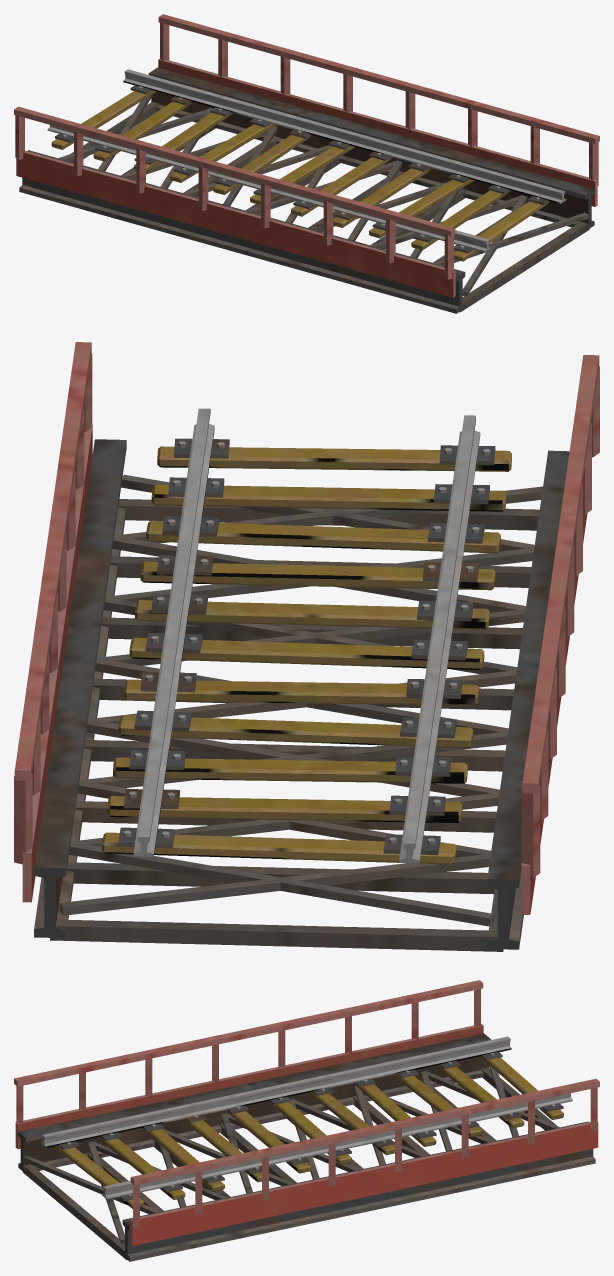
The model's file is elevated-half-diagonal-rail.glb.
The picture shows the model from 3 angles, top to bottom: view 1: azimuth 30°, elevation 25°; view 2: azimuth 150°, elevation 25°; view 3: azimuth 270°, elevation 25°; orthographic projection. The views are drawn at different scales.
Parts seen in each view (by area): view 1: body; view 2: body; view 3: body.
Part boxes in pixels (x1=…): body: x1=14, y1=14, x2=599, y2=313; body: x1=14, y1=342, x2=599, y2=951; body: x1=14, y1=980, x2=599, y2=1261.
Size of the model in its own units: 4.07 by 0.825 by 5.03.
Materials: 1 (1 with a texture image).
